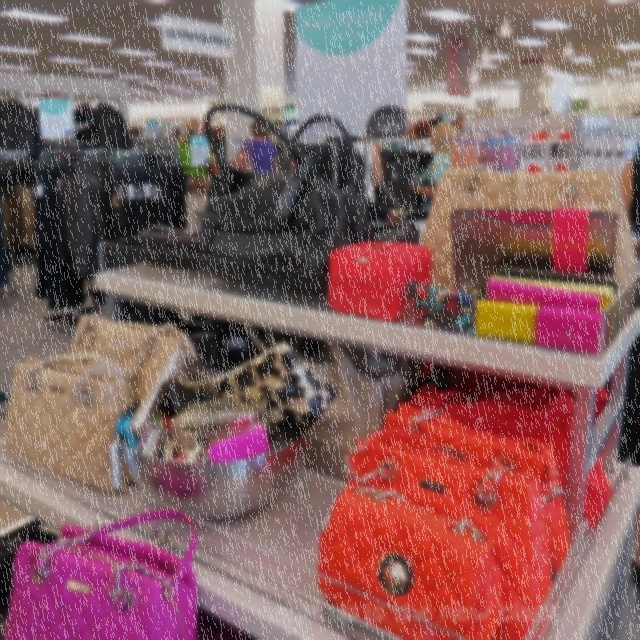pessoa: (283, 145, 405, 229), (408, 120, 460, 210), (350, 134, 385, 236), (611, 150, 639, 264), (231, 118, 280, 174), (177, 118, 218, 178), (406, 119, 439, 158), (429, 114, 453, 152), (211, 126, 227, 158), (405, 119, 418, 141), (128, 120, 143, 138), (452, 114, 465, 130), (171, 122, 181, 138)
